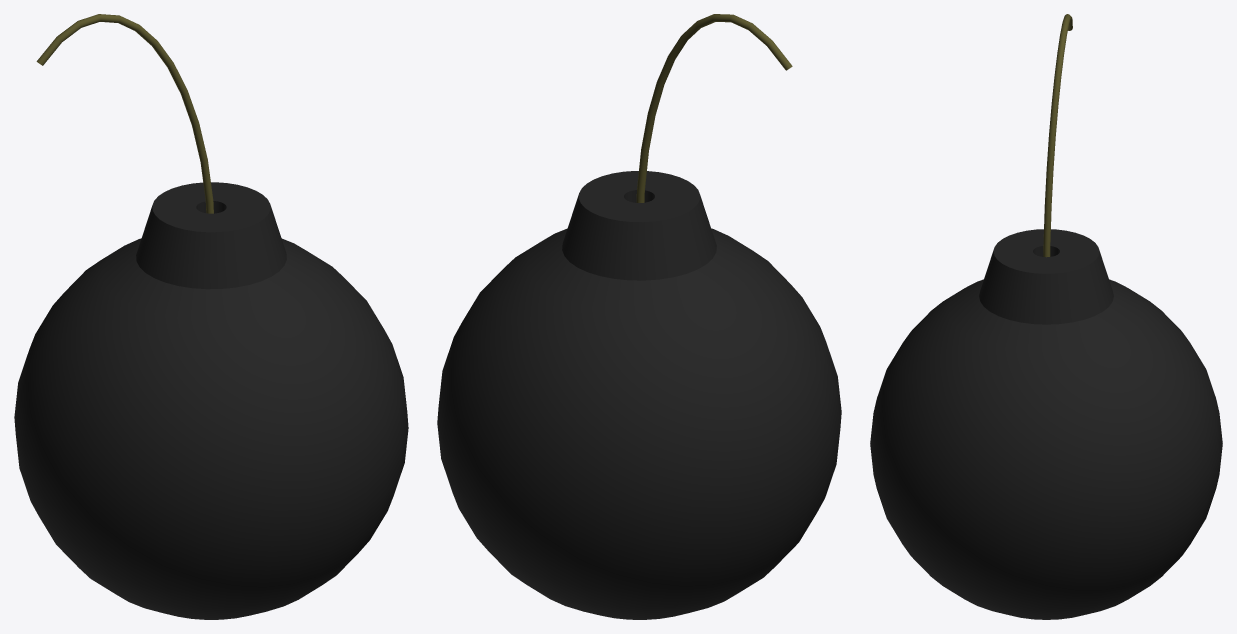
File: MyBomb.fbx
3 renders of one model, left to right at view 1: azimuth 30°, elevation 25°; view 2: azimuth 150°, elevation 25°; view 3: azimuth 270°, elevation 25°, orthographic. The views are drawn at different scales.
Parts seen in each view (by area): view 1: Sphere, BezierCurve; view 2: Sphere, BezierCurve; view 3: Sphere, BezierCurve.
Boxes of the visible parts, box(x1,y1,x2,y2) form: Sphere: box(14, 182, 408, 619); BezierCurve: box(36, 14, 213, 213); Sphere: box(437, 171, 841, 619); BezierCurve: box(636, 14, 792, 202); Sphere: box(870, 229, 1222, 619); BezierCurve: box(1043, 14, 1072, 257).
Bounding box in the file's own units: 200 × 338 × 200.
